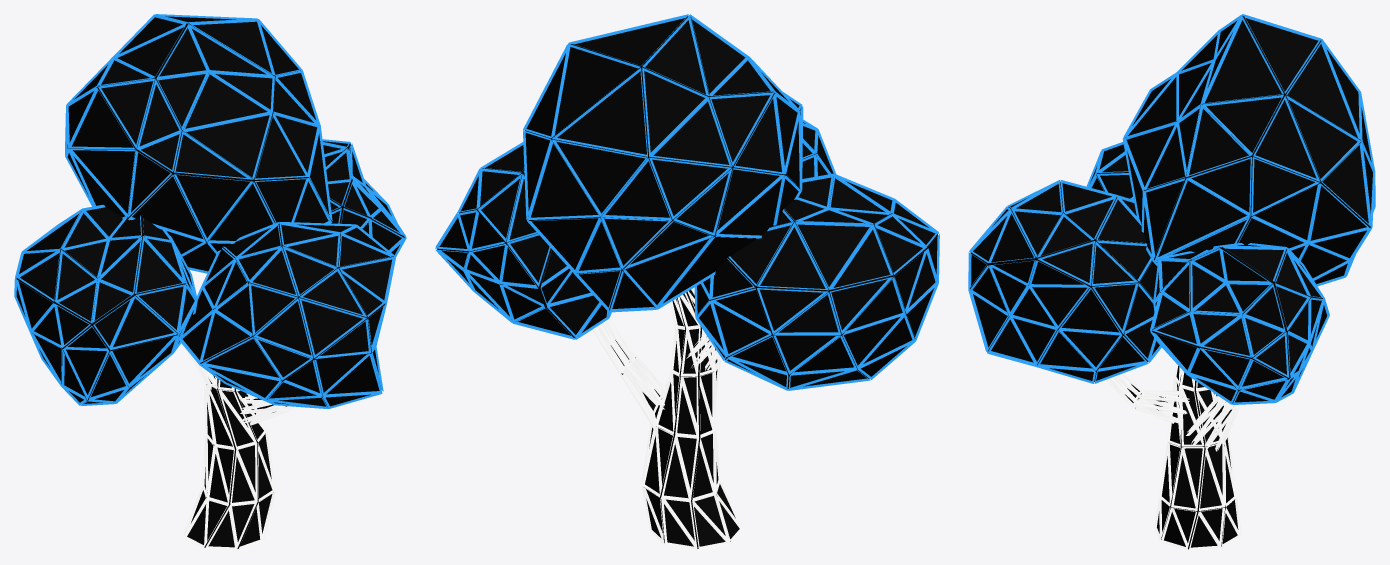
The model's file is tree_wire_teal.glb.
3 renders of one model, left to right at view 1: azimuth 30°, elevation 25°; view 2: azimuth 150°, elevation 25°; view 3: azimuth 270°, elevation 25°, orthographic. The views are drawn at different scales.
Parts seen in each view (by area): view 1: Cylinder_2, Cylinder_2.001; view 2: Cylinder_2, Cylinder_2.001; view 3: Cylinder_2, Cylinder_2.001.
Boxes of the visible parts, left/top/right/bottom form: Cylinder_2: left=16, top=16, right=404, bottom=548; Cylinder_2.001: left=14, top=14, right=406, bottom=550; Cylinder_2: left=437, top=16, right=937, bottom=548; Cylinder_2.001: left=435, top=14, right=939, bottom=550; Cylinder_2: left=970, top=16, right=1372, bottom=549; Cylinder_2.001: left=968, top=14, right=1375, bottom=550.
Size of the model in its own units: 6.14 by 7.42 by 5.36.
